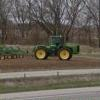Tractor: (31, 28, 84, 63)
